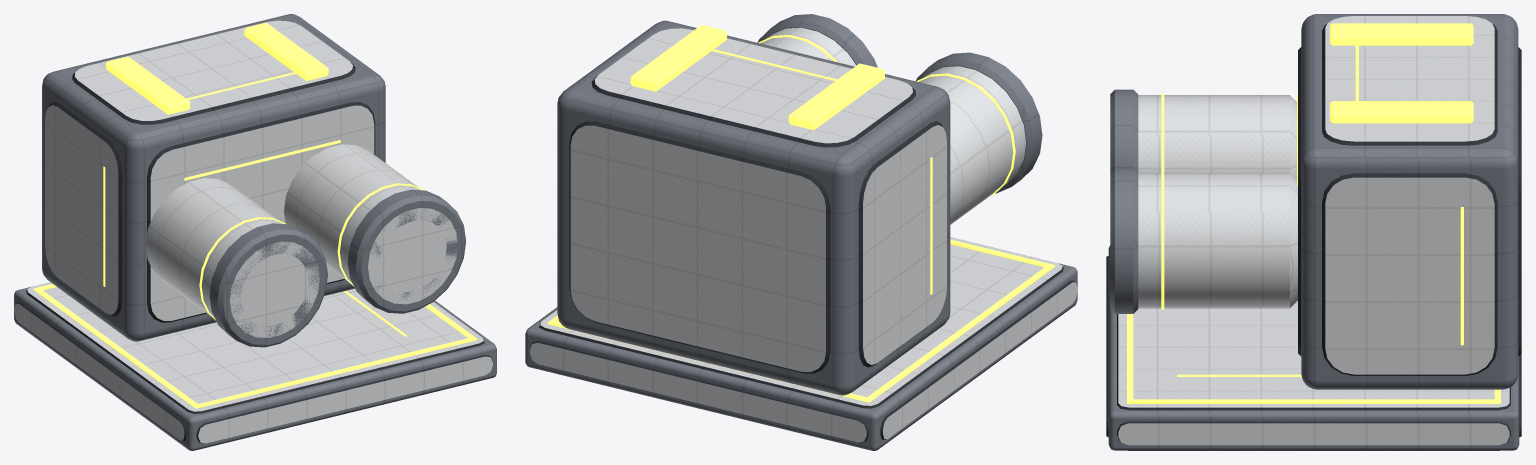
File: R4X_DoubleShotPassive.glb
3 views of the same model, side by side, from view 1: azimuth 30°, elevation 25°; view 2: azimuth 150°, elevation 25°; view 3: azimuth 270°, elevation 25° (orthographic). The views are drawn at different scales.
Visible parts, largest first — view 1: R4X_DoubleShotPassive_Body; view 2: R4X_DoubleShotPassive_Body; view 3: R4X_DoubleShotPassive_Body.
Part boxes in pixels (left/top/right/bottom): R4X_DoubleShotPassive_Body: left=14, top=14, right=496, bottom=450; R4X_DoubleShotPassive_Body: left=525, top=14, right=1077, bottom=450; R4X_DoubleShotPassive_Body: left=1106, top=14, right=1521, bottom=450.
Bounding box in the file's own units: 0.52 × 0.415 × 0.52.
4 materials, 3 textured.
